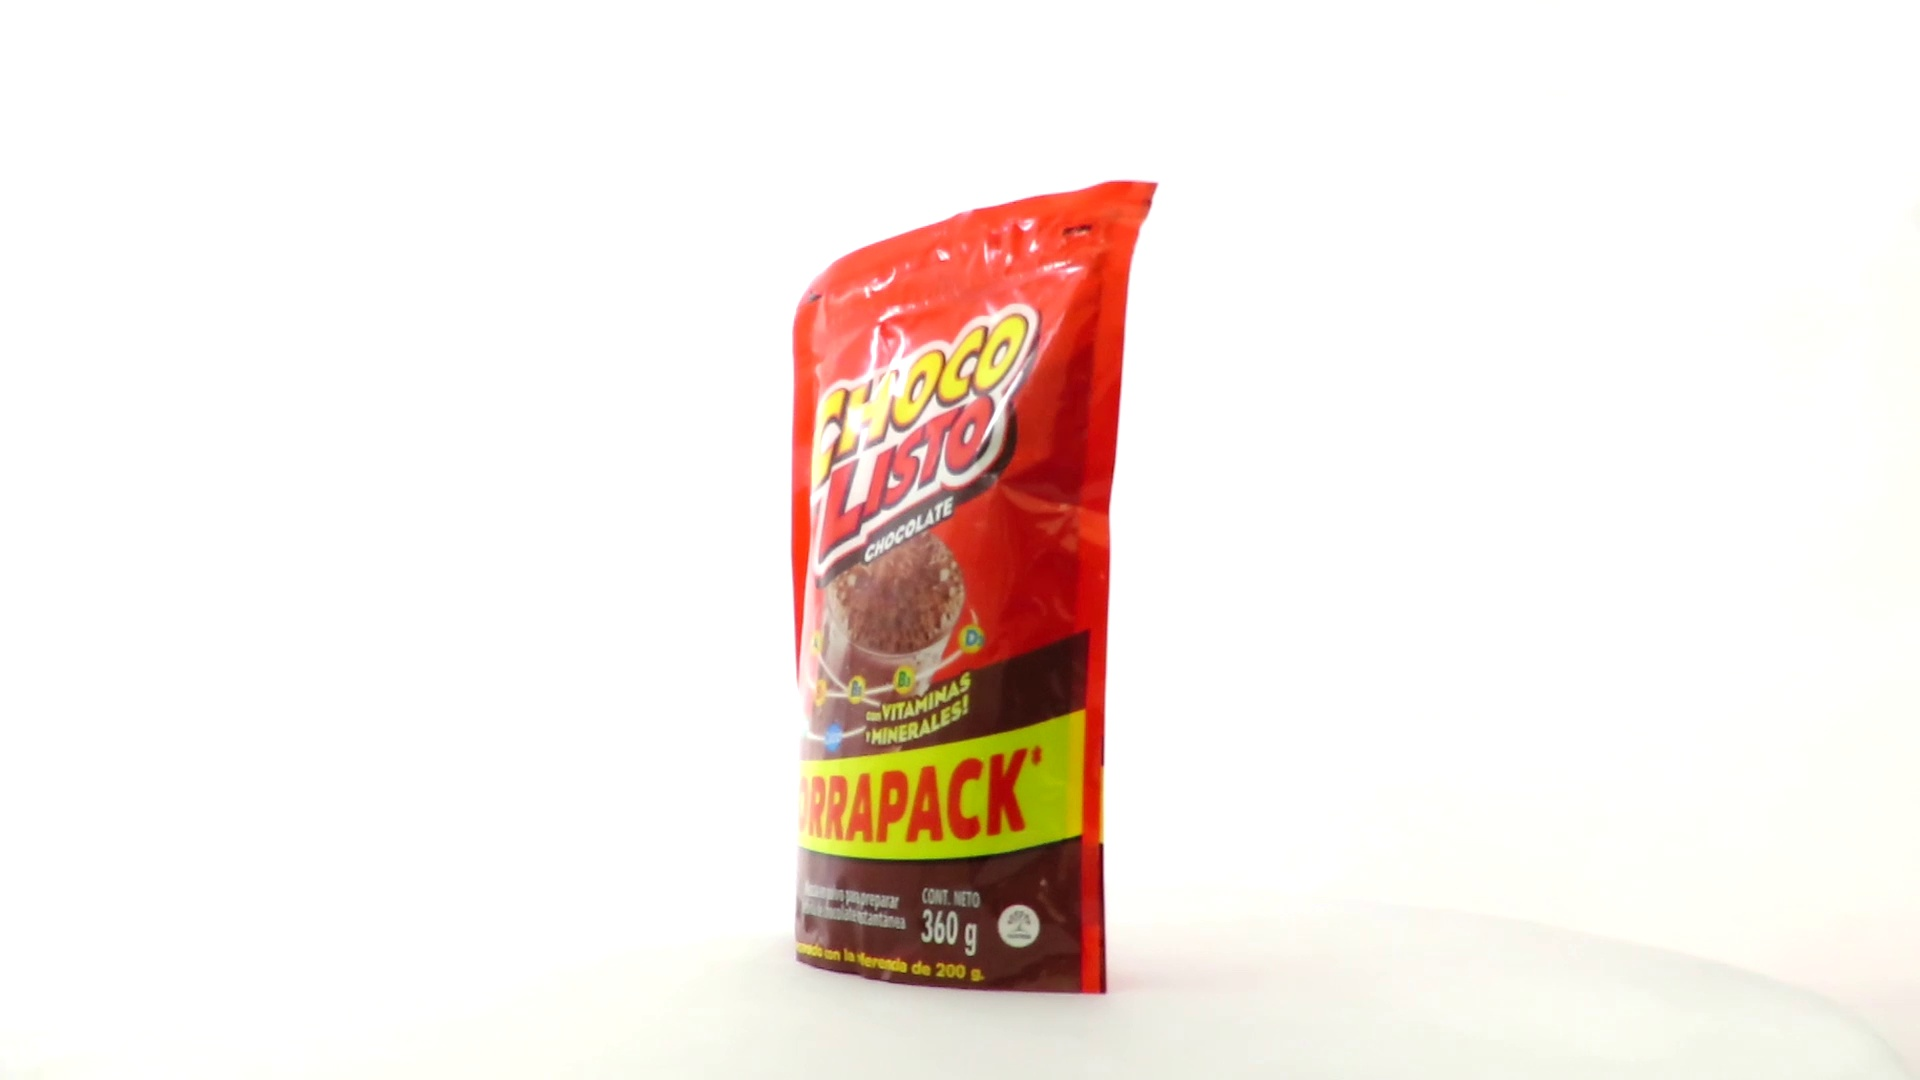COL0170103DYP36000: (786, 175, 1164, 1001)
